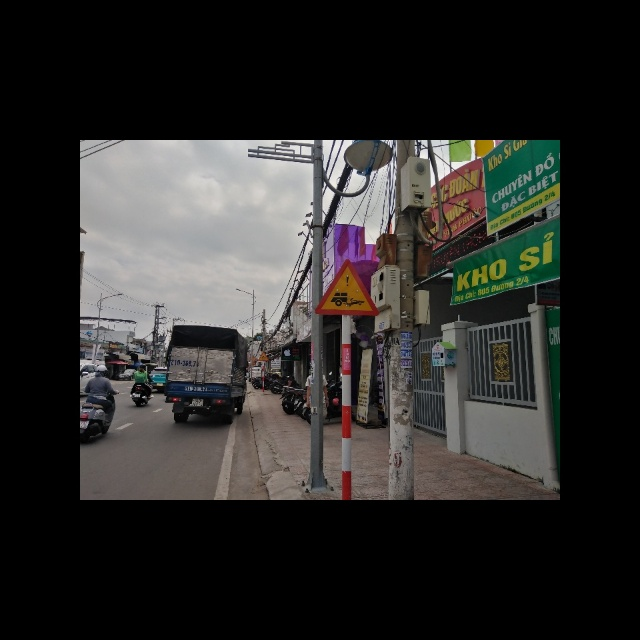Đoạn đường hay xảy ra tai nạn: (313, 259, 377, 317)
Đường đôi: (258, 350, 271, 362)
